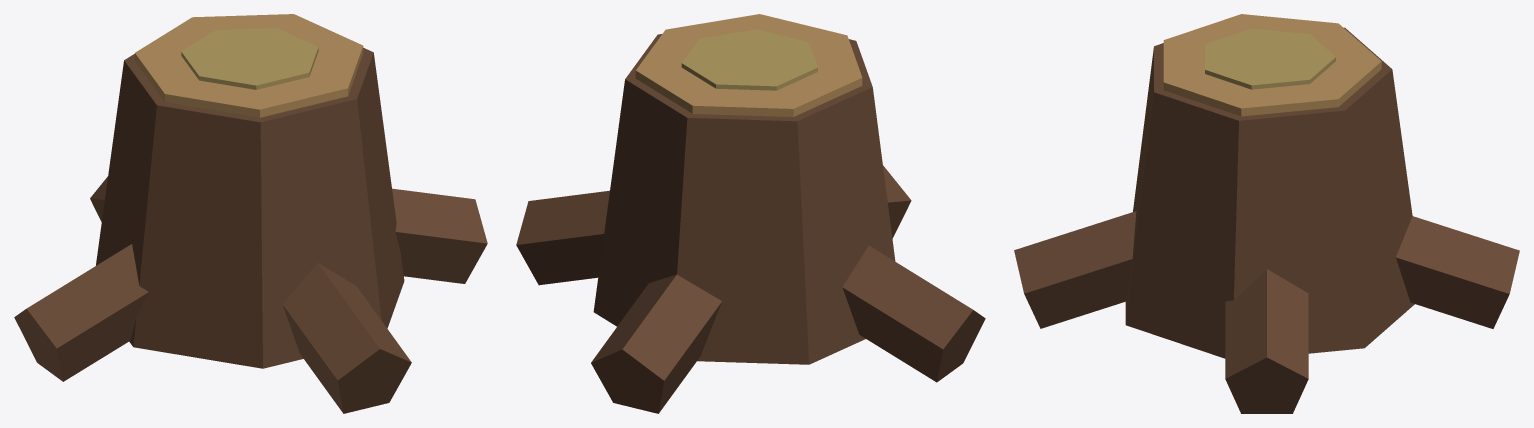
File: Stump_A.fbx
The picture shows the model from 3 angles, left to right: view 1: azimuth 30°, elevation 25°; view 2: azimuth 150°, elevation 25°; view 3: azimuth 270°, elevation 25°; orthographic projection. The views are drawn at different scales.
Parts seen in each view (by area): view 1: Stump_A; view 2: Stump_A; view 3: Stump_A.
Part boxes in pixels (left/top/right/bottom): Stump_A: left=14, top=14, right=487, bottom=413; Stump_A: left=516, top=14, right=985, bottom=413; Stump_A: left=1014, top=14, right=1519, bottom=413.
Size of the model in its own units: 0.7545 by 0.43 by 0.7545.
1 material, 1 textured.
